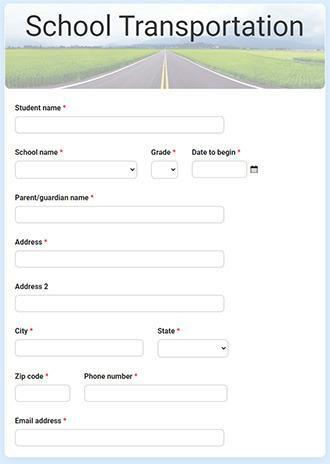dropdown: (15, 160, 141, 181), (157, 339, 230, 361), (151, 160, 180, 181)
input: (14, 249, 226, 270), (15, 206, 226, 227), (13, 429, 228, 449), (14, 295, 226, 315), (16, 116, 227, 136), (83, 384, 230, 405), (15, 339, 146, 359), (193, 161, 249, 181), (14, 384, 72, 403)
label: (26, 11, 305, 41), (13, 193, 97, 203), (14, 415, 69, 426), (82, 373, 141, 382), (193, 148, 242, 158), (15, 104, 67, 113), (12, 371, 51, 382), (15, 150, 66, 157), (15, 238, 51, 247), (14, 283, 52, 291), (157, 327, 183, 338), (13, 327, 38, 337), (151, 149, 178, 157)
